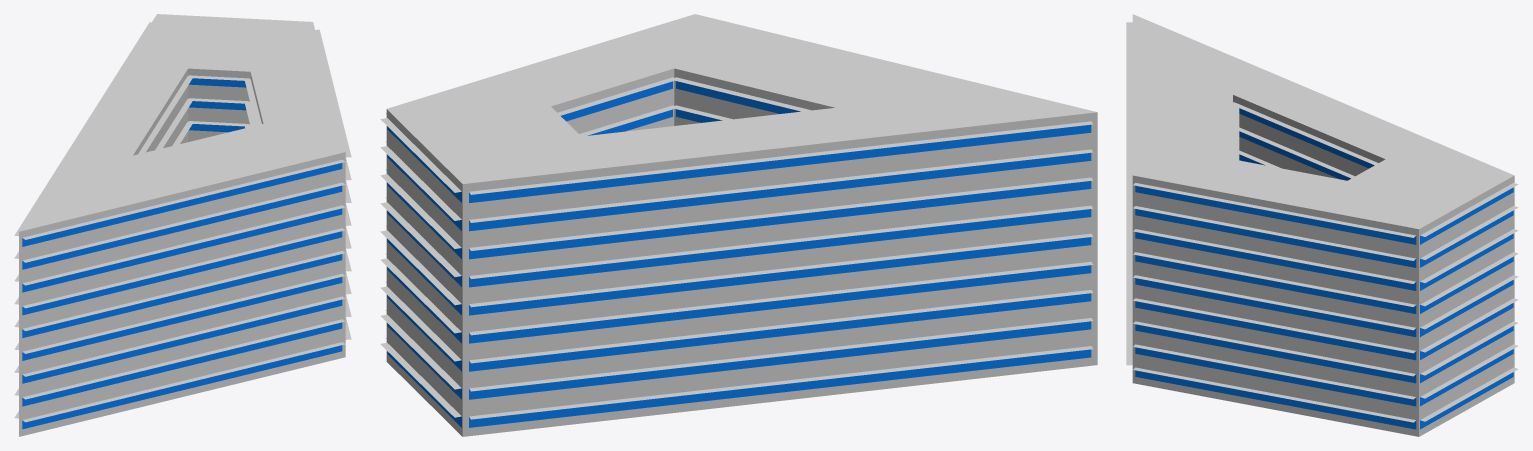
3 renders of one model, left to right at view 1: azimuth 30°, elevation 25°; view 2: azimuth 150°, elevation 25°; view 3: azimuth 270°, elevation 25°, orthographic. The views are drawn at different scales.
Parts seen in each view (by area): view 1: node0 (×2); view 2: node0 (×2); view 3: node0 (×2).
Boxes of the visible parts, <box> form: node0 (×2): <box>14,14,351,436</box>; node0 (×2): <box>380,14,1097,436</box>; node0 (×2): <box>1126,14,1518,436</box>.
Bounding box in the file's own units: 80.82 × 61.65 × 36.
